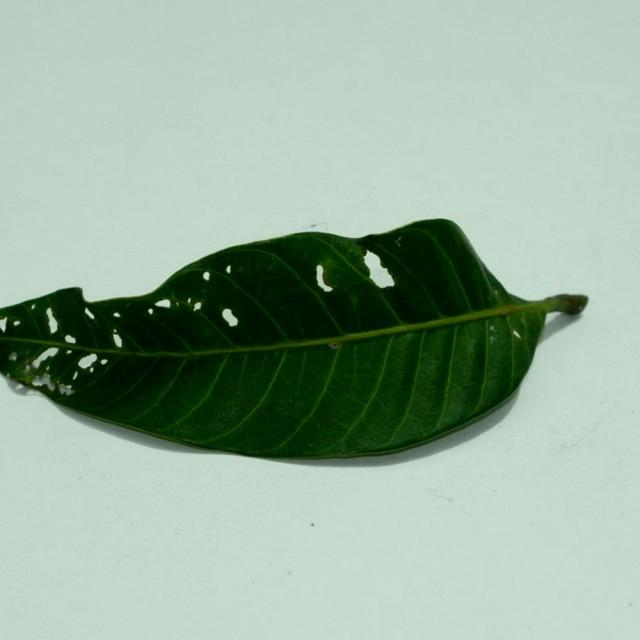Anthracnose: (361, 251, 390, 285), (30, 347, 59, 369), (76, 355, 109, 373), (315, 264, 331, 290), (45, 307, 58, 333), (221, 308, 239, 326), (3, 317, 20, 335), (84, 307, 96, 323), (33, 377, 48, 389), (58, 383, 73, 394), (155, 299, 171, 309), (0, 317, 9, 334), (112, 333, 122, 347), (64, 334, 76, 344), (202, 271, 211, 282), (193, 301, 202, 311), (512, 330, 522, 339), (8, 352, 17, 361), (225, 265, 232, 275), (146, 308, 154, 316), (112, 312, 121, 319), (112, 328, 118, 337)
Mango: (0, 220, 589, 467)
